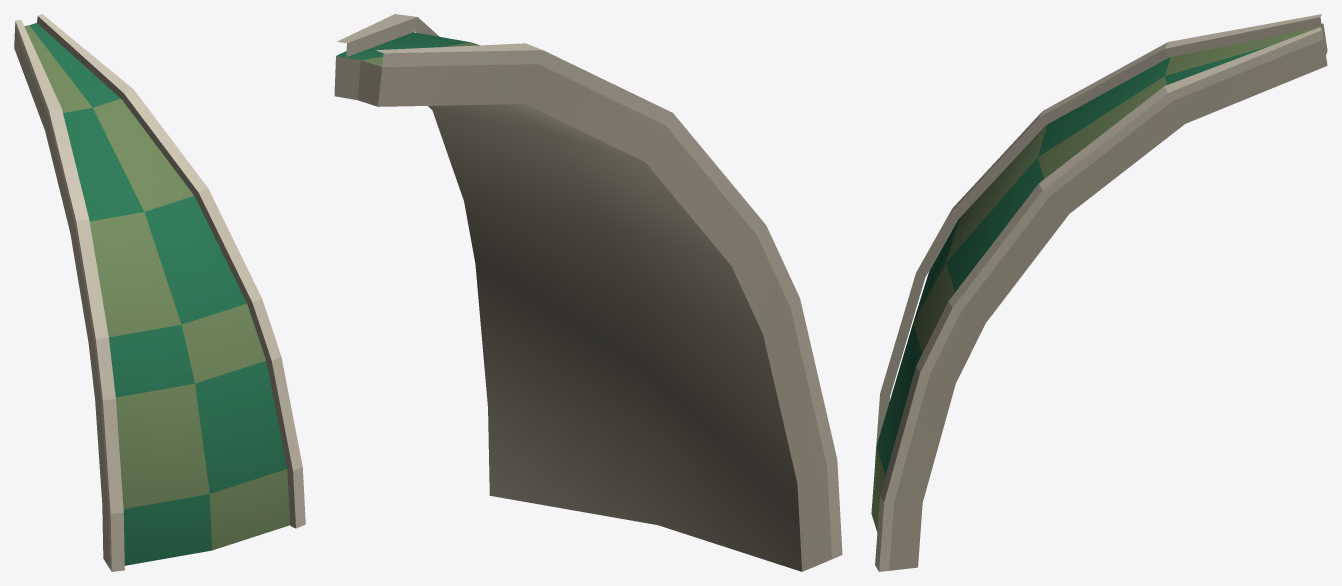
Rendered from dome.panel_12.green.glb.
3 renders of one model, left to right at view 1: azimuth 30°, elevation 25°; view 2: azimuth 150°, elevation 25°; view 3: azimuth 270°, elevation 25°, orthographic. The views are drawn at different scales.
Parts seen in each view (by area): view 1: dome_panel_12_green; view 2: dome_panel_12_green; view 3: dome_panel_12_green.
Part boxes in pixels (x1,y1,x2,y2): dome_panel_12_green: [14, 14, 305, 571]; dome_panel_12_green: [334, 14, 842, 571]; dome_panel_12_green: [871, 14, 1327, 571].
Size of what is drawn, in the model's own units: 1.85 by 3.63 by 3.06.
